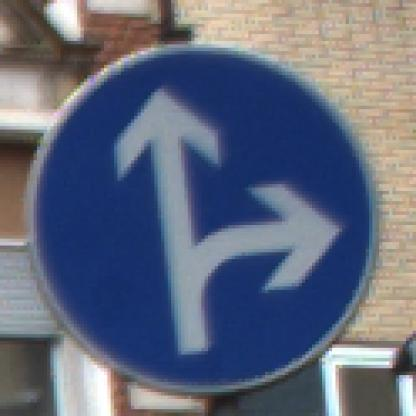Straight or Right: (35, 35, 384, 383)
